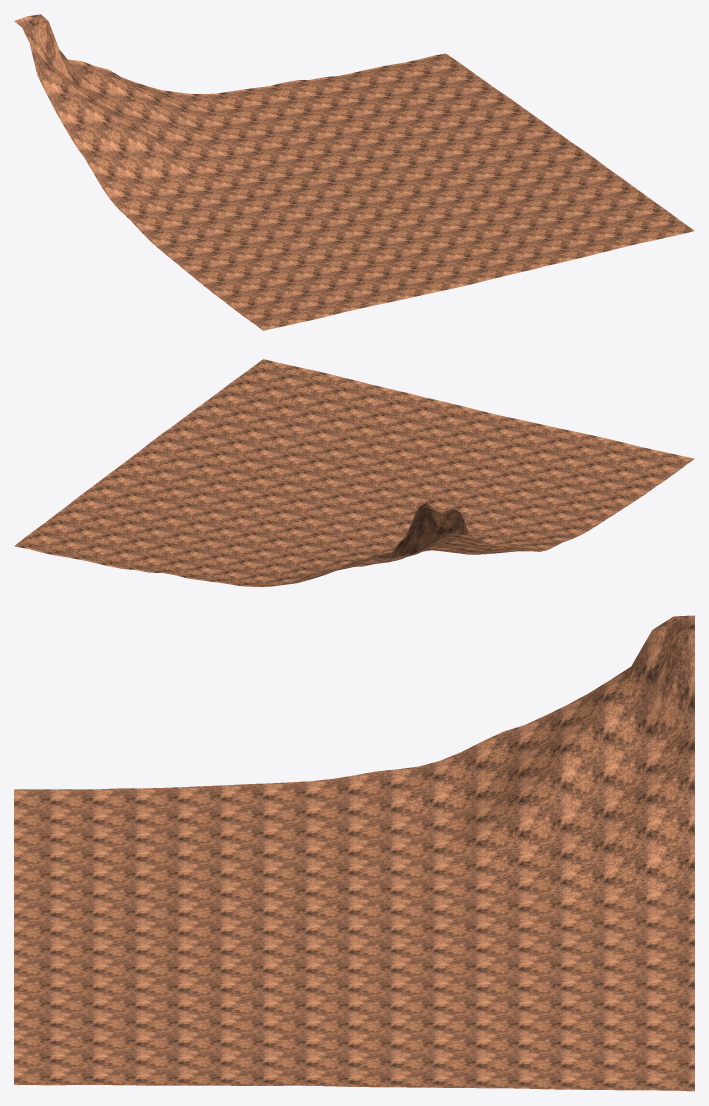
The model's file is terrain_00_14.dae.
3 views of the same model, one above another, from view 1: azimuth 30°, elevation 25°; view 2: azimuth 150°, elevation 25°; view 3: azimuth 270°, elevation 25° (orthographic). The views are drawn at different scales.
Visible parts, largest first — view 1: terrain_00_14-node; view 2: terrain_00_14-node; view 3: terrain_00_14-node.
Boxes of the visible parts, x1=… form: terrain_00_14-node: x1=14, y1=14, x2=694, y2=330; terrain_00_14-node: x1=14, y1=359, x2=694, y2=586; terrain_00_14-node: x1=14, y1=615, x2=694, y2=1091.
Bounding box in the file's own units: 128 × 128 × 39.43.
1 material, 1 textured.
